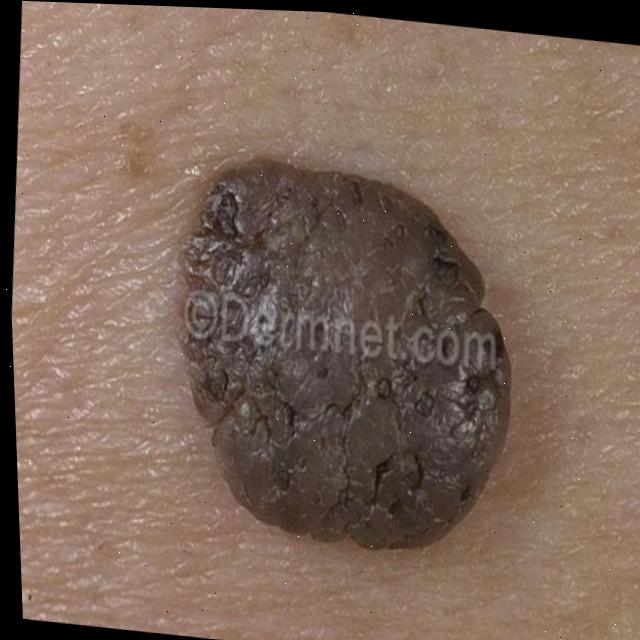Eczema: (190, 185, 486, 534)
